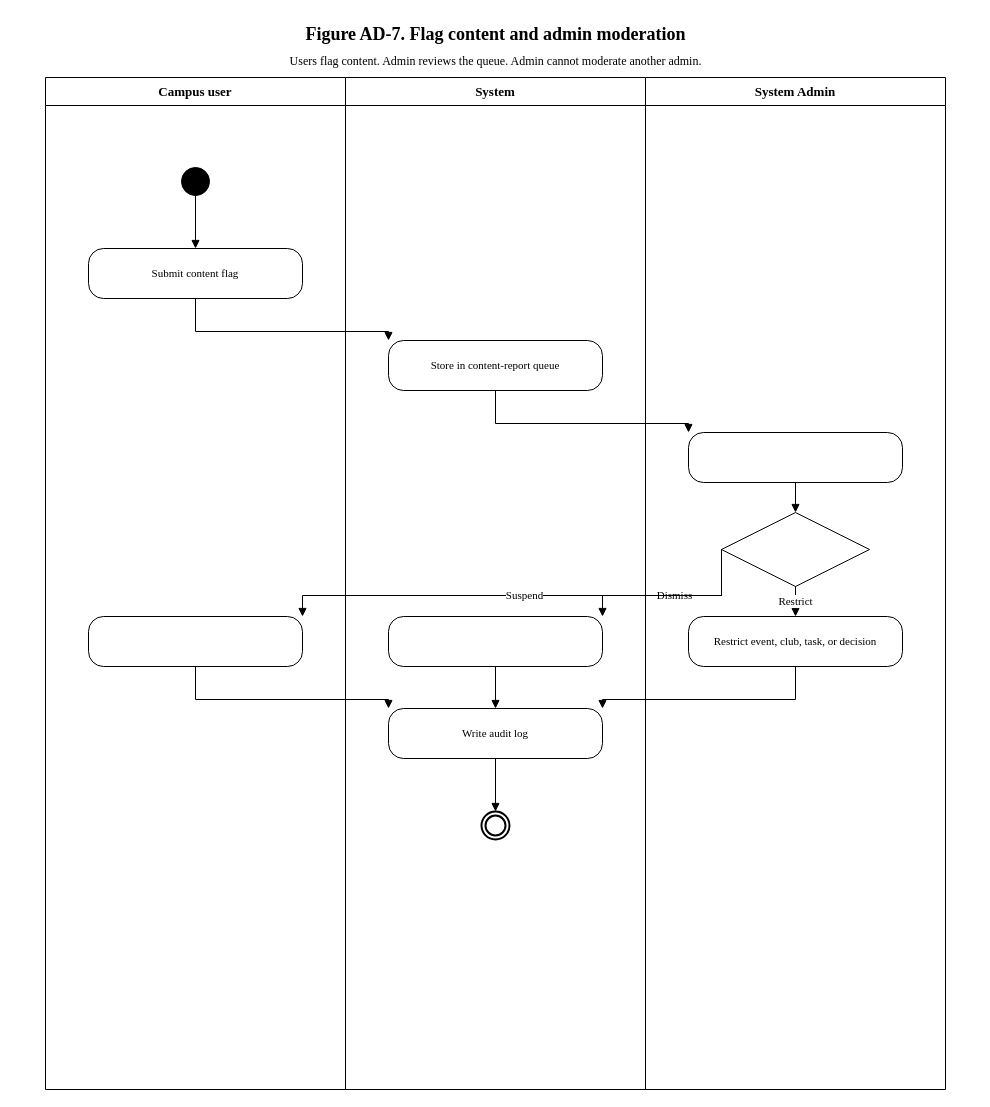
Image size: 990x1107. Some labels were removed from this diagram. The shapes that lost their labels are listed below. From the top down, each one's centre as x and y in pixels, then its label:
At [795,457]: "Review flag".
At [795,549]: "Action?".
At [195,641]: "Suspend or ban reported user".
At [495,641]: "Dismiss flag".
